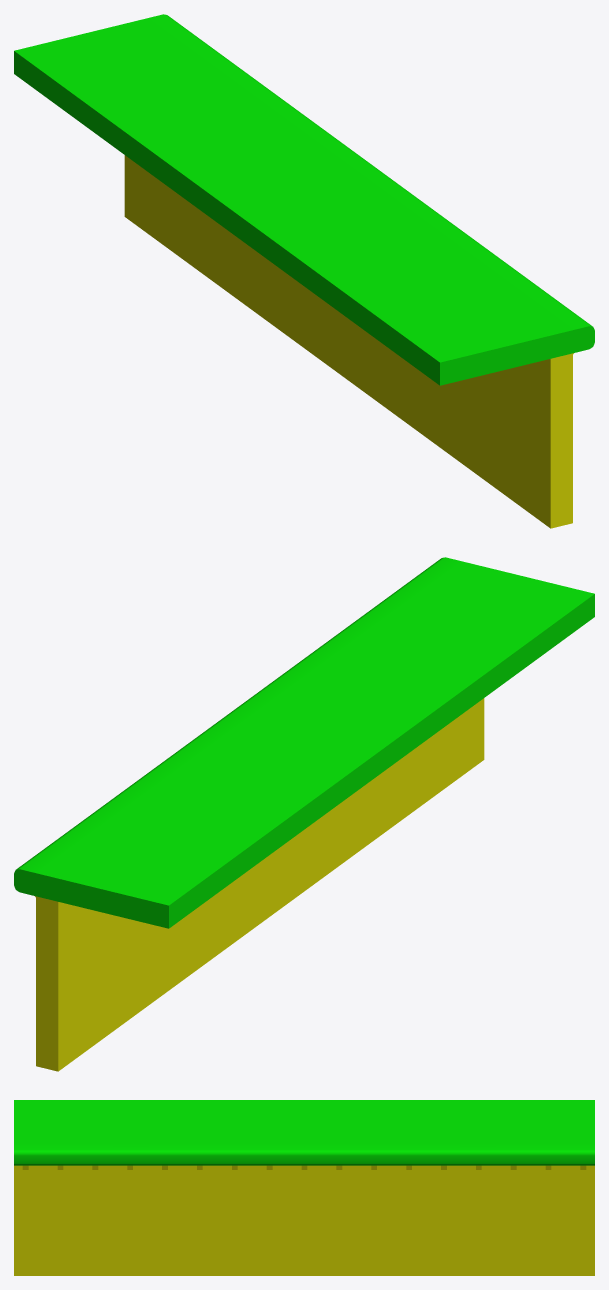
File: CounterTop.fbx
3 renders of one model, top to bottom at view 1: azimuth 30°, elevation 25°; view 2: azimuth 150°, elevation 25°; view 3: azimuth 270°, elevation 25°, orthographic. The views are drawn at different scales.
Parts seen in each view (by area): view 1: CounterTop_CounterTop; view 2: CounterTop_CounterTop; view 3: CounterTop_CounterTop, CounterTop_Strut.
Part boxes in pixels (bbox=[...]): CounterTop_CounterTop: bbox=[14, 14, 594, 528]; CounterTop_CounterTop: bbox=[14, 557, 594, 1071]; CounterTop_CounterTop: bbox=[14, 1100, 594, 1275]; CounterTop_Strut: bbox=[22, 1165, 586, 1169].
Bounding box in the file's own units: 105 × 125 × 500.
